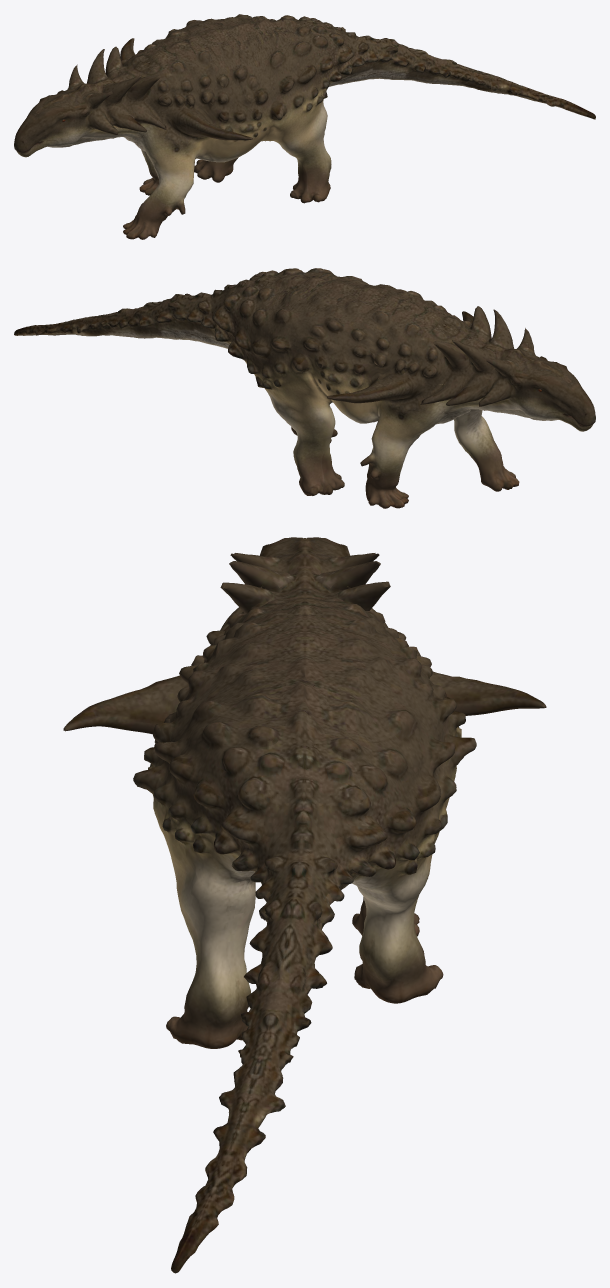
The picture shows the model from 3 angles, top to bottom: view 1: azimuth 30°, elevation 25°; view 2: azimuth 150°, elevation 25°; view 3: azimuth 270°, elevation 25°; orthographic projection. The views are drawn at different scales.
Parts seen in each view (by area): view 1: Animal; view 2: Animal; view 3: Animal.
Boxes of the visible parts, x1,y1,x2,y2 form: Animal: [14, 14, 595, 239]; Animal: [14, 268, 595, 508]; Animal: [63, 537, 546, 1273].
Size of the model in its own units: 3.2 by 0.933 by 1.22.
1 material, 1 textured.
